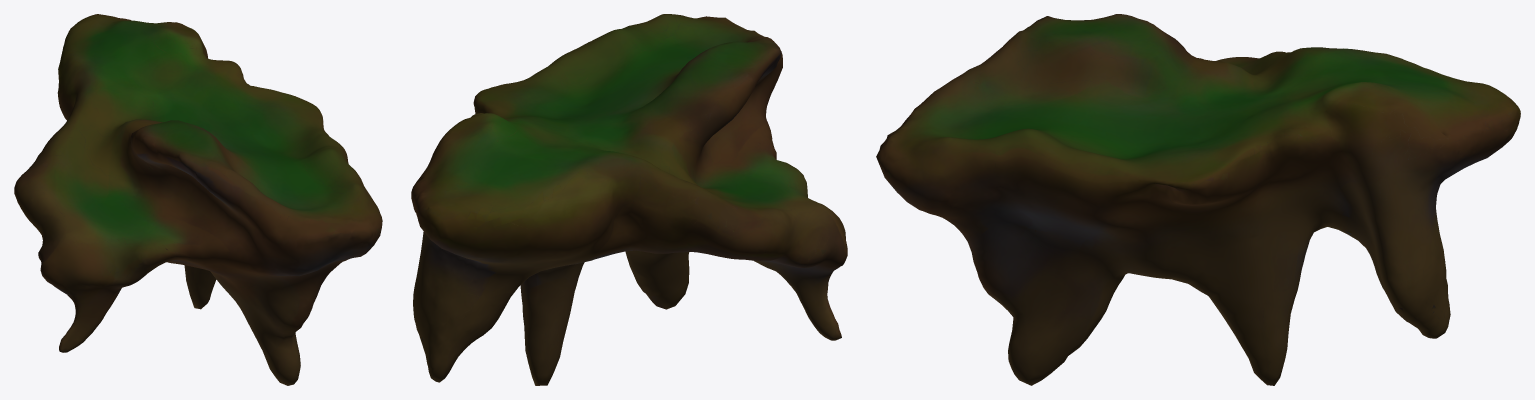
The model's file is mediumIsland2.fbx.
3 views of the same model, side by side, from view 1: azimuth 30°, elevation 25°; view 2: azimuth 150°, elevation 25°; view 3: azimuth 270°, elevation 25° (orthographic). The views are drawn at different scales.
Visible parts, largest first — view 1: Icosphere.001; view 2: Icosphere.001; view 3: Icosphere.001.
Boxes of the visible parts, <box> form: Icosphere.001: <box>14,14,382,385</box>; Icosphere.001: <box>411,14,847,385</box>; Icosphere.001: <box>876,14,1520,385</box>.
Size of the model in its own units: 26077 by 21334 by 40225.
